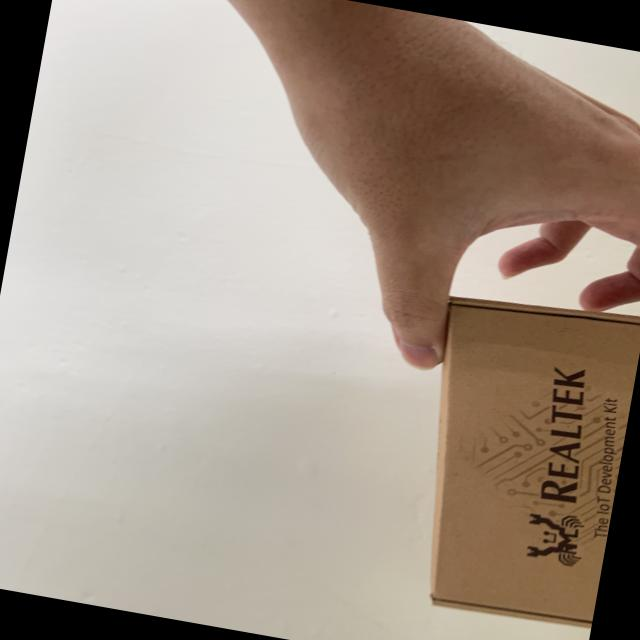box: (353, 260, 640, 640)
